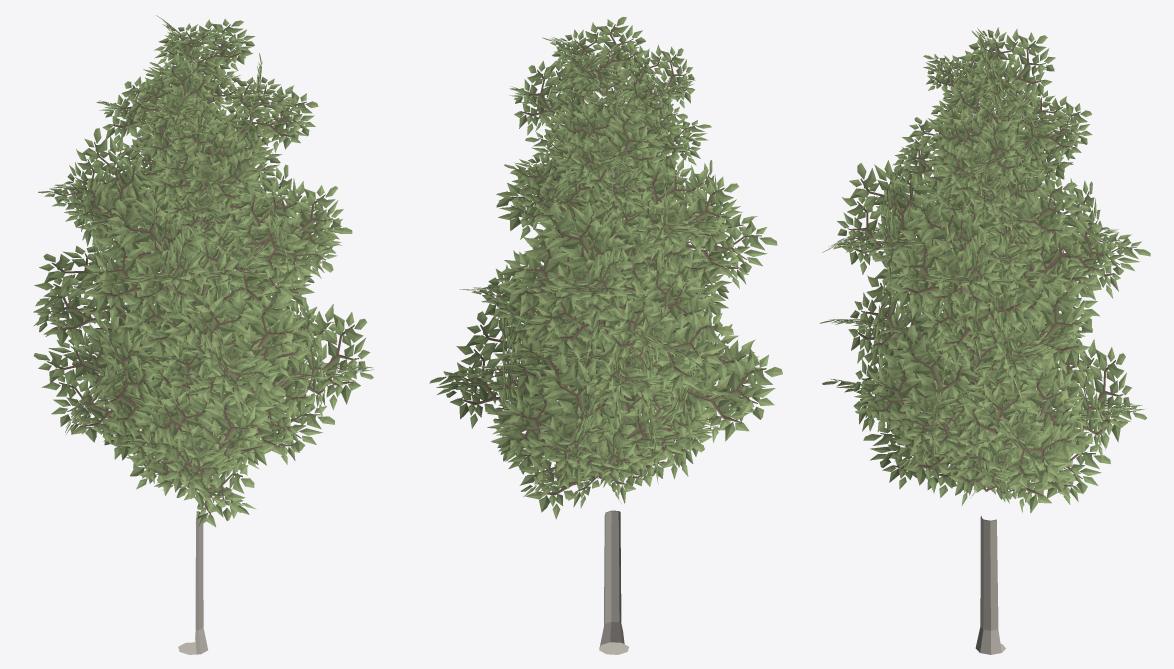
The model's file is birch1fixedUVs.fbx.
The picture shows the model from 3 angles, left to right: view 1: azimuth 30°, elevation 25°; view 2: azimuth 150°, elevation 25°; view 3: azimuth 270°, elevation 25°; orthographic projection.
Parts seen in each view (by area): view 1: SM_Tree_Birch_01_LOD_01; view 2: SM_Tree_Birch_01_LOD_01; view 3: SM_Tree_Birch_01_LOD_01.
Part boxes in pixels (box(x1,y1,x2,y2)): SM_Tree_Birch_01_LOD_01: box(33, 15, 374, 654); SM_Tree_Birch_01_LOD_01: box(429, 17, 782, 654); SM_Tree_Birch_01_LOD_01: box(819, 27, 1150, 654).
Size of the model in its own units: 245 by 455 by 229.
